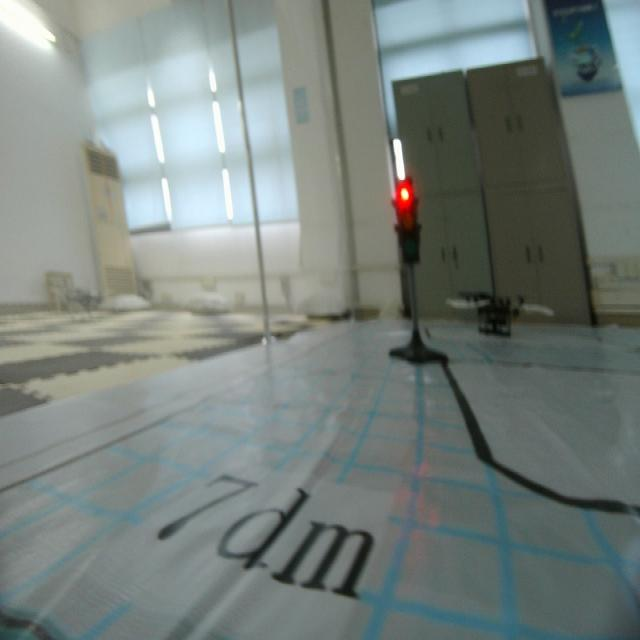red: (390, 176, 420, 267)
